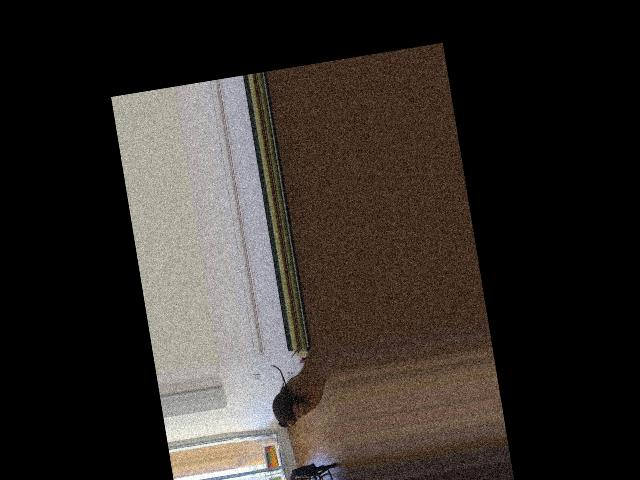beet: (266, 363, 297, 430)
